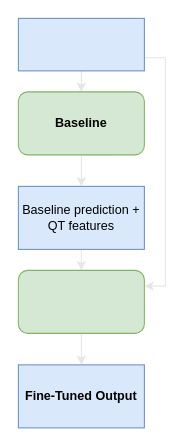
Image size: 192x446. Some labels were removed from this diagram. The shapes that lost their labels are listed below. From the top down, each one's centre as x and y in pixels, then its label:
At (x=80, y=44): "Raw Path, Link Features".
At (x=80, y=301): "Modified Routenet".
